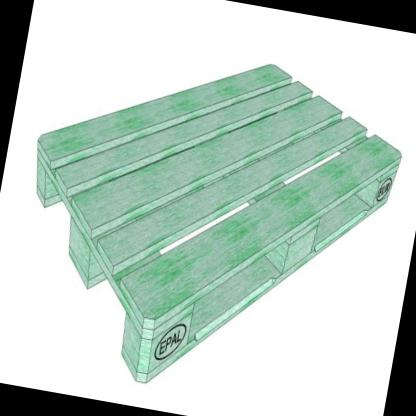BoxFace: (28, 56, 406, 390)
